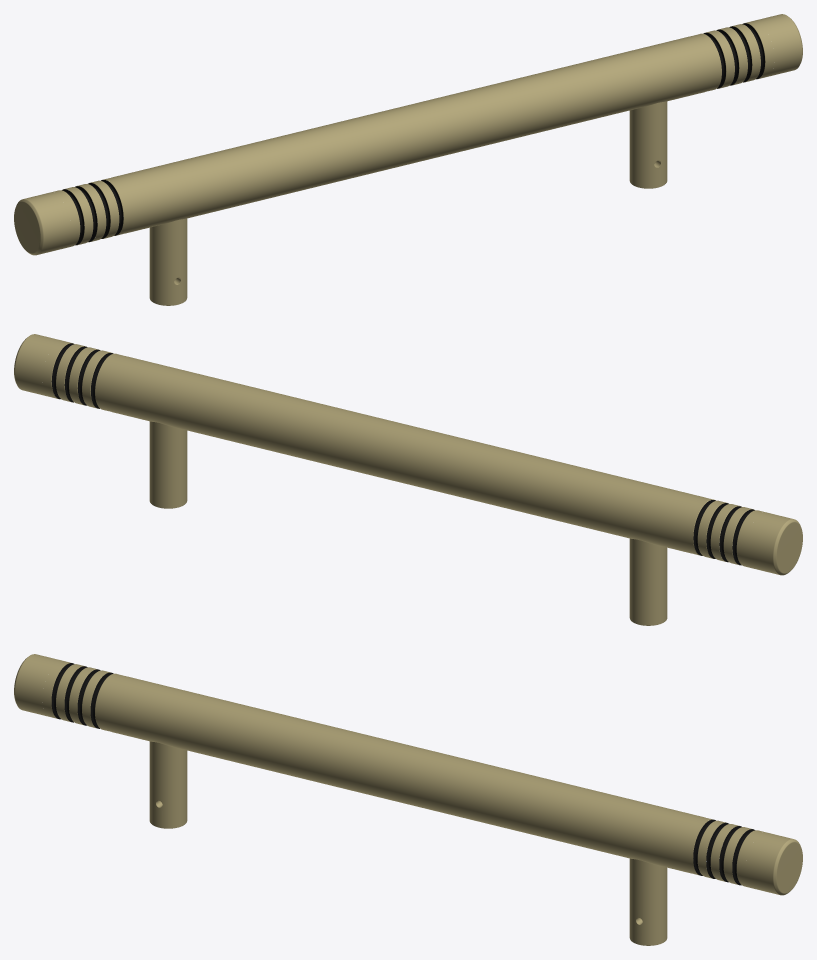
Rendered from door-handles-1705.glb.
3 views of the same model, one above another, from view 1: azimuth 30°, elevation 25°; view 2: azimuth 150°, elevation 25°; view 3: azimuth 330°, elevation 25° (orthographic).
Visible parts, largest first — view 1: Bar, Post -1, Post 1; view 2: Bar, Post -1, Post 1; view 3: Bar, Post 1, Post -1.
Boxes of the visible parts, x1,y1,x2,y2 form: Bar: (14, 14, 802, 255); Post -1: (149, 218, 187, 305); Post 1: (629, 101, 667, 188); Bar: (14, 334, 802, 575); Post -1: (629, 538, 667, 625); Post 1: (149, 421, 187, 508); Bar: (14, 654, 802, 895); Post 1: (629, 858, 667, 945); Post -1: (149, 741, 187, 828).
Bounding box in the file's own units: 0.305 × 0.05 × 0.02.
